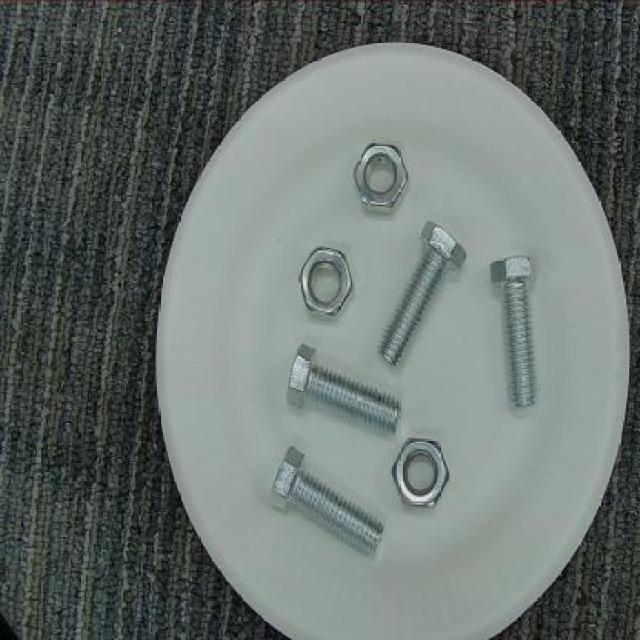Bolt: (265, 445, 387, 563), (374, 223, 471, 371), (284, 342, 404, 438), (487, 252, 543, 416)
Nut: (298, 244, 357, 322), (353, 141, 409, 217), (393, 437, 448, 514)
